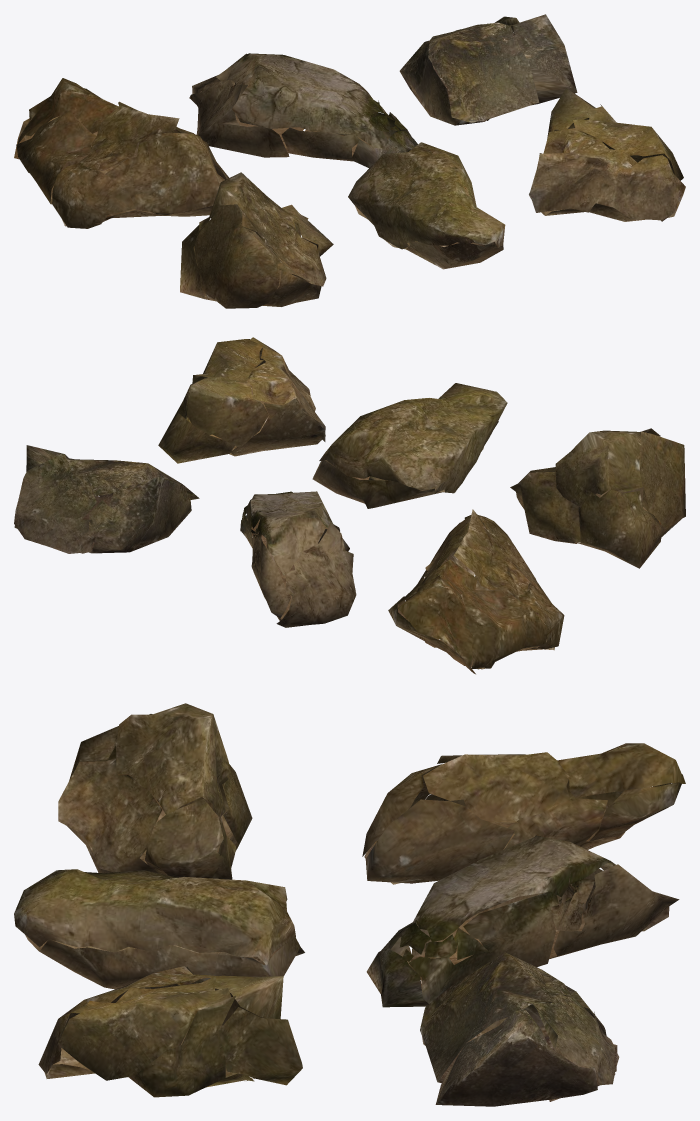
File: rock_moss_set_01_lod1.gltf
3 renders of one model, top to bottom at view 1: azimuth 30°, elevation 25°; view 2: azimuth 150°, elevation 25°; view 3: azimuth 270°, elevation 25°, orthographic. The views are drawn at different scales.
Visible parts, largest first — view 1: rock_moss_set_01_lod1; view 2: rock_moss_set_01_lod1; view 3: rock_moss_set_01_lod1.
Part boxes in pixels (bbox=[...]): rock_moss_set_01_lod1: bbox=[14, 14, 685, 308]; rock_moss_set_01_lod1: bbox=[14, 337, 685, 674]; rock_moss_set_01_lod1: bbox=[14, 703, 685, 1106].
Size of the model in its own units: 7.95 by 1.73 by 6.96.
Materials: 1 (1 with a texture image).
